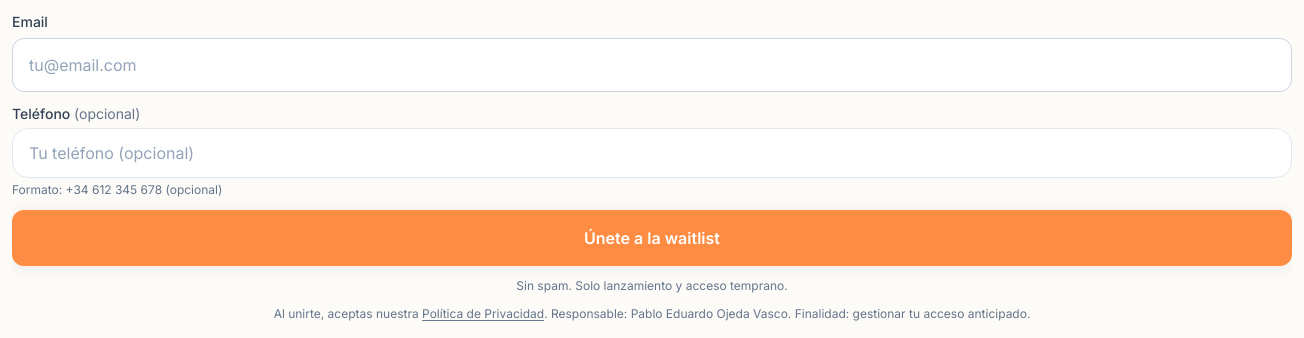
Test: WaitlistForm — phone auto-prepend › focusing on empty phone input sets value to +34
Step 1. Focus the field labelled "Teléfono (opcional)" → (652, 153), box top-left (12, 128), bottom-right (1292, 178)
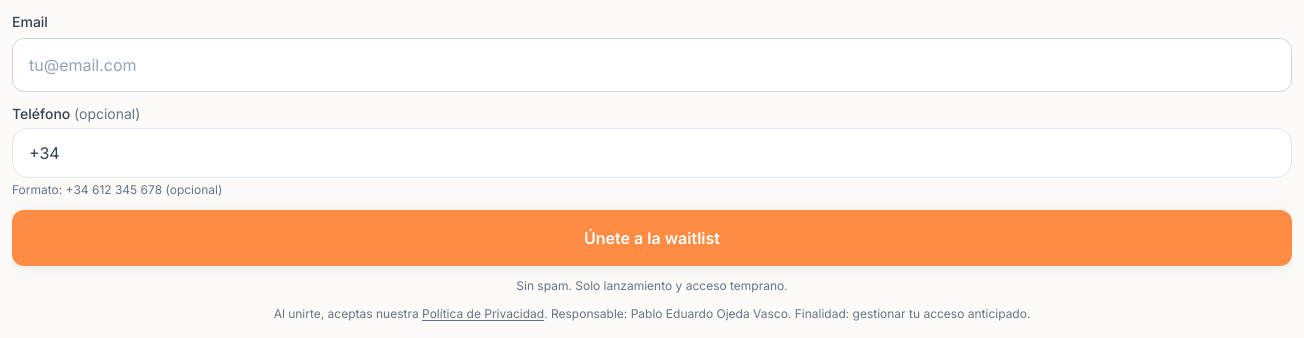
Now the field labelled "Teléfono (opcional)" holds "+34", box top-left (12, 128), bottom-right (1292, 178)
